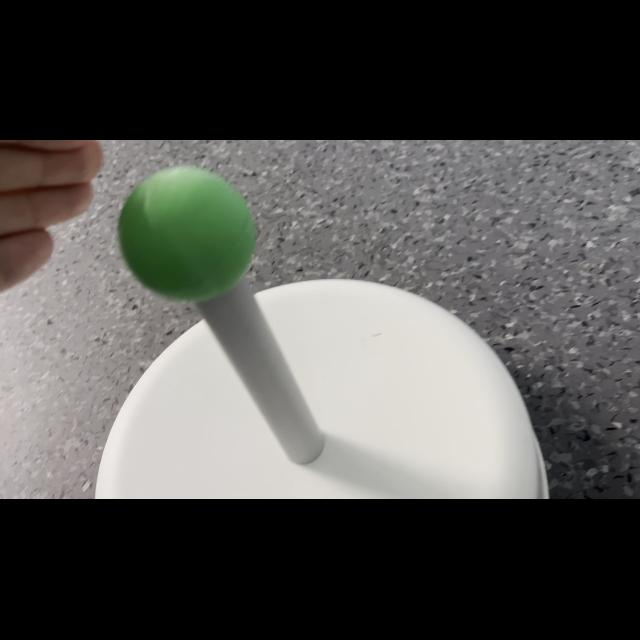objects: (112, 163, 262, 303)
